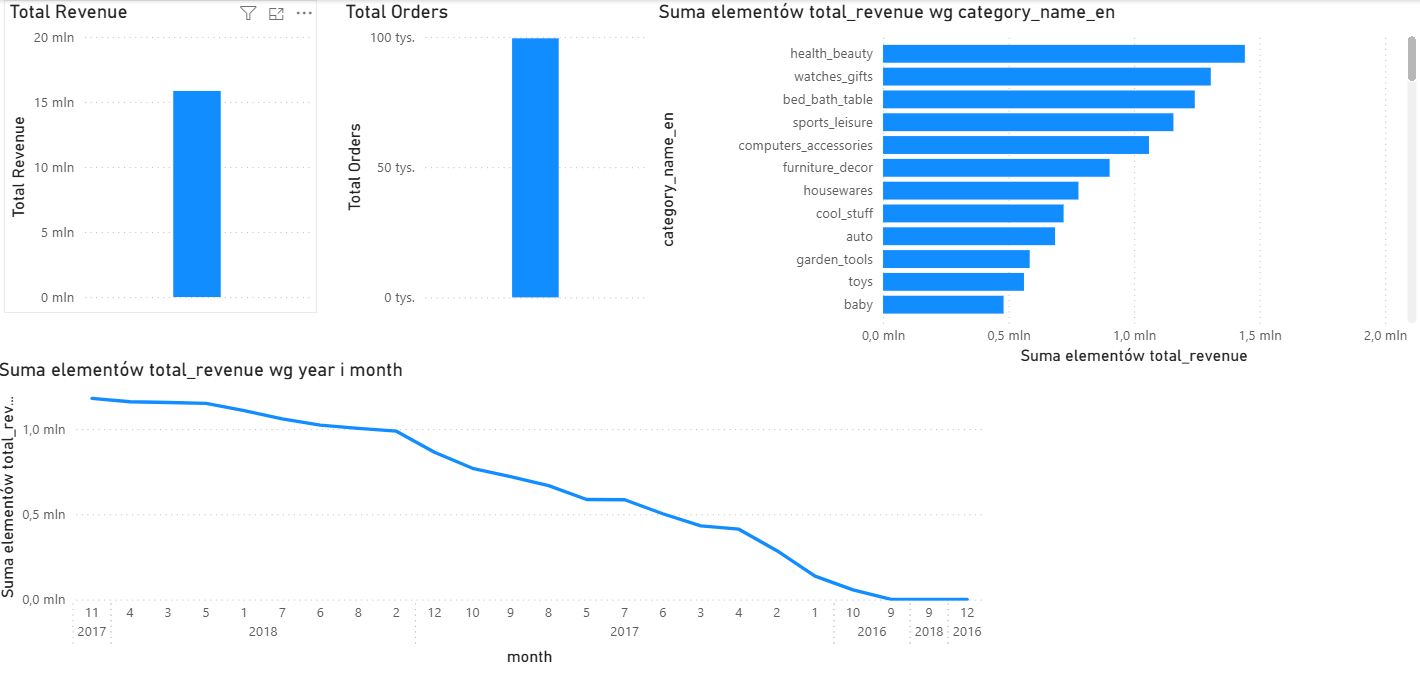

What the dashboard file says about the page in this screenshot:
{"tool":"powerbi","page":{"name":"Sprzedaż","canvas":[1280,720],"ordinal":0},"visuals":[{"type":"clusteredColumnChart","fields":{"Y":["agg_monthly_sales.Total Revenue"]},"box":[10,0,280,280],"z":0},{"type":"clusteredColumnChart","fields":{"Y":["agg_monthly_sales.Total Orders"]},"box":[310.7,0,280.3,280.3],"z":1},{"type":"lineChart","fields":{"Category":["agg_monthly_sales.year","agg_monthly_sales.month"],"Y":["Sum(agg_monthly_sales.total_revenue)"]},"box":[0,320.6,891,280.3],"z":2},{"type":"barChart","fields":{"Category":["agg_monthly_sales.category_name_en"],"Y":["Sum(agg_monthly_sales.total_revenue)"]},"box":[591,0,688.7,331.3],"z":3}]}

Visuals, with their boxes on the page's 1280x720 design canvas (x1, y1, x2, y2). These are canvas units, not pixel positions in the 1420x684 screenshot, which may show the page scaled, cropped or inside an application window:
clusteredColumnChart - agg_monthly_sales.Total Revenue: [left=10, top=0, right=290, bottom=280]
clusteredColumnChart - agg_monthly_sales.Total Orders: [left=311, top=0, right=591, bottom=280]
lineChart - agg_monthly_sales.year x agg_monthly_sales.month: [left=0, top=321, right=891, bottom=601]
barChart - agg_monthly_sales.category_name_en x Sum(agg_monthly_sales.total_revenue): [left=591, top=0, right=1280, bottom=331]
